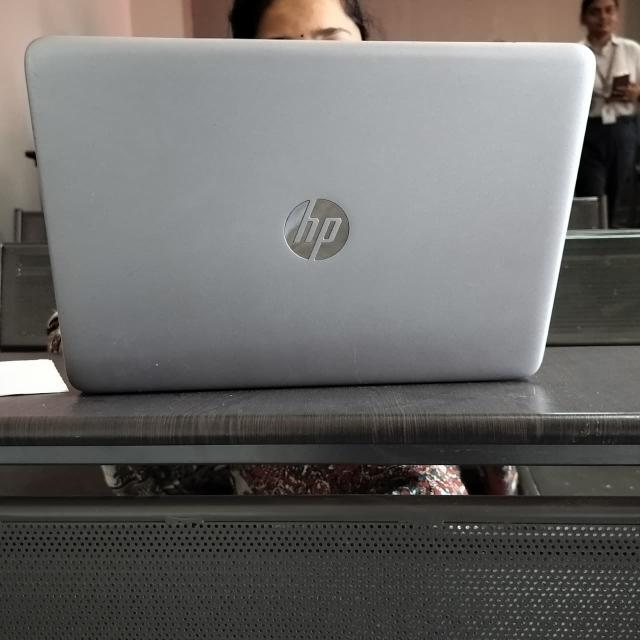laptop: (8, 31, 636, 429)
